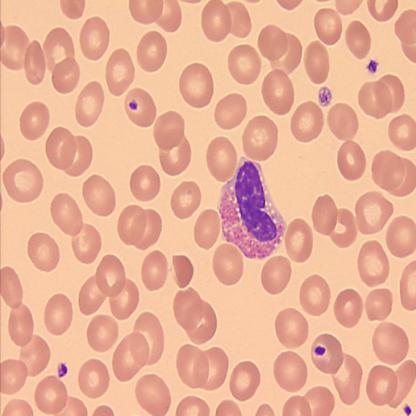Eosinophil: (218, 157, 286, 258)
